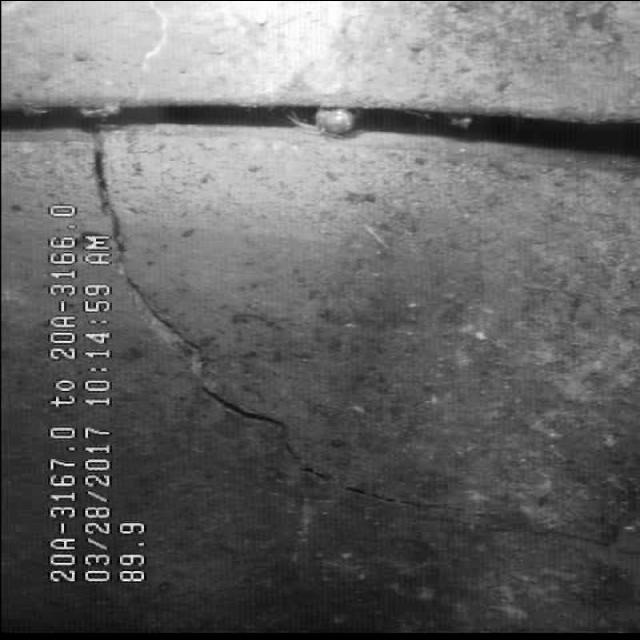Crack: (120, 302, 426, 498)
